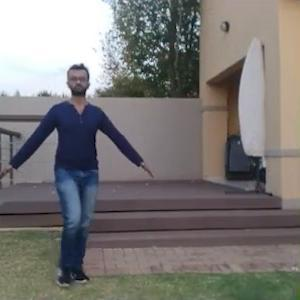land: (10, 72, 145, 278)
